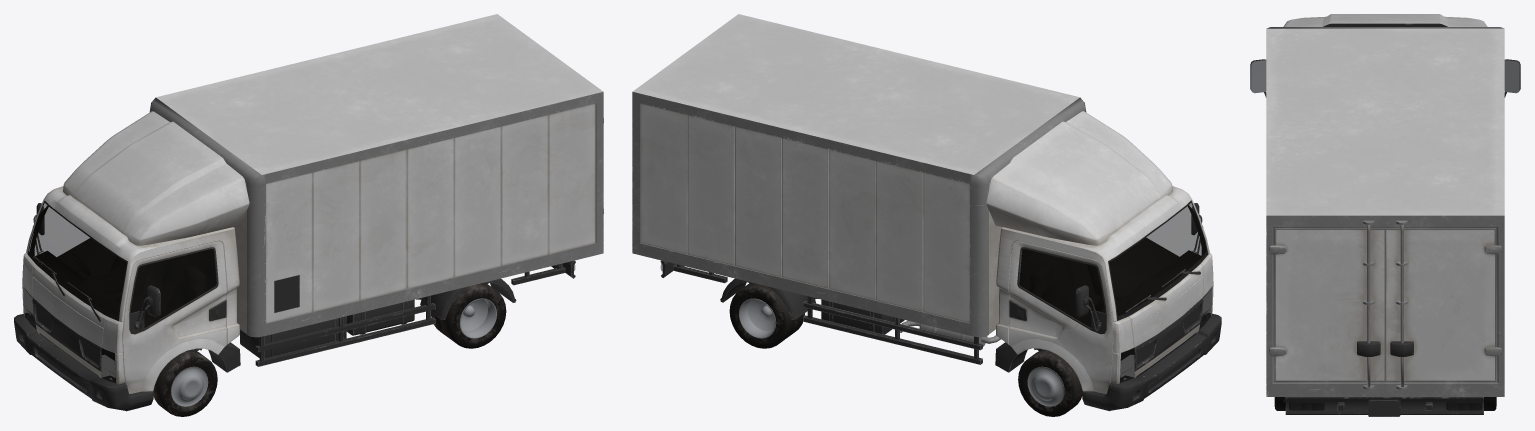
The model's file is Truck.gltf.
3 renders of one model, left to right at view 1: azimuth 30°, elevation 25°; view 2: azimuth 150°, elevation 25°; view 3: azimuth 270°, elevation 25°, orthographic. The views are drawn at different scales.
Parts seen in each view (by area): view 1: Truck_g Truck_body_geo, Truck_g Truck_BlackMetal_geo, Truck_g Truck_GalMetal_geo, Truck_g Truck_Glass_geo, Truck_Cabin_geo Truck_g, Truck_g Truck_WheelRubber_geo, Truck_g Truck_ShinyMetal_geo; view 2: Truck_g Truck_body_geo, Truck_g Truck_BlackMetal_geo, Truck_g Truck_GalMetal_geo, Truck_g Truck_Glass_geo, Truck_Cabin_geo Truck_g, Truck_g Truck_WheelRubber_geo, Truck_g Truck_ShinyMetal_geo; view 3: Truck_g Truck_body_geo, Truck_g Truck_GalMetal_geo, Truck_g Truck_BlackMetal_geo, Truck_g Truck_ShinyMetal_geo, Truck_g Truck_Glass_geo, Truck_g Truck_WheelRubber_geo.
Part boxes in pixels (<box>): Truck_g Truck_body_geo: <box>22,14,603,393</box>; Truck_g Truck_BlackMetal_geo: <box>14,201,575,411</box>; Truck_g Truck_GalMetal_geo: <box>149,92,603,337</box>; Truck_g Truck_Glass_geo: <box>23,201,575,383</box>; Truck_Cabin_geo Truck_g: <box>30,206,216,359</box>; Truck_g Truck_WheelRubber_geo: <box>102,282,506,416</box>; Truck_g Truck_ShinyMetal_geo: <box>171,298,496,406</box>; Truck_g Truck_body_geo: <box>632,14,1213,393</box>; Truck_g Truck_BlackMetal_geo: <box>660,201,1221,411</box>; Truck_g Truck_GalMetal_geo: <box>632,92,1086,346</box>; Truck_g Truck_Glass_geo: <box>660,201,1212,382</box>; Truck_Cabin_geo Truck_g: <box>1019,205,1206,359</box>; Truck_g Truck_WheelRubber_geo: <box>729,282,1133,416</box>; Truck_g Truck_ShinyMetal_geo: <box>739,298,1064,406</box>; Truck_g Truck_body_geo: <box>1266,14,1504,380</box>; Truck_g Truck_GalMetal_geo: <box>1266,27,1504,396</box>; Truck_g Truck_BlackMetal_geo: <box>1250,23,1520,416</box>; Truck_g Truck_ShinyMetal_geo: <box>1251,60,1519,93</box>; Truck_g Truck_Glass_geo: <box>1289,401,1481,410</box>; Truck_g Truck_WheelRubber_geo: <box>1274,397,1496,410</box>.
Size of the model in its own units: 19.25 by 8.52 by 8.07.
Materials: 7 (7 with a texture image).
